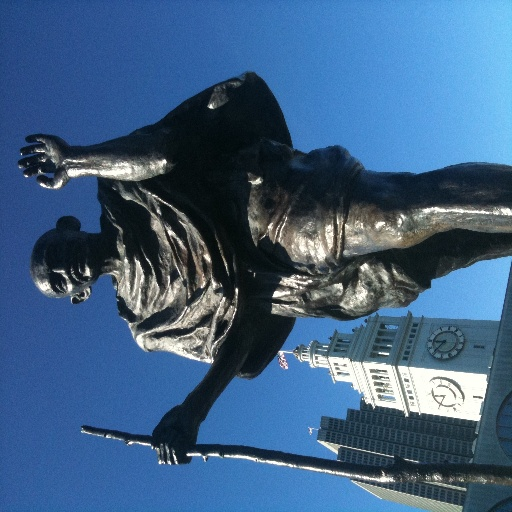hand: (17, 131, 70, 189), (157, 412, 205, 464)
